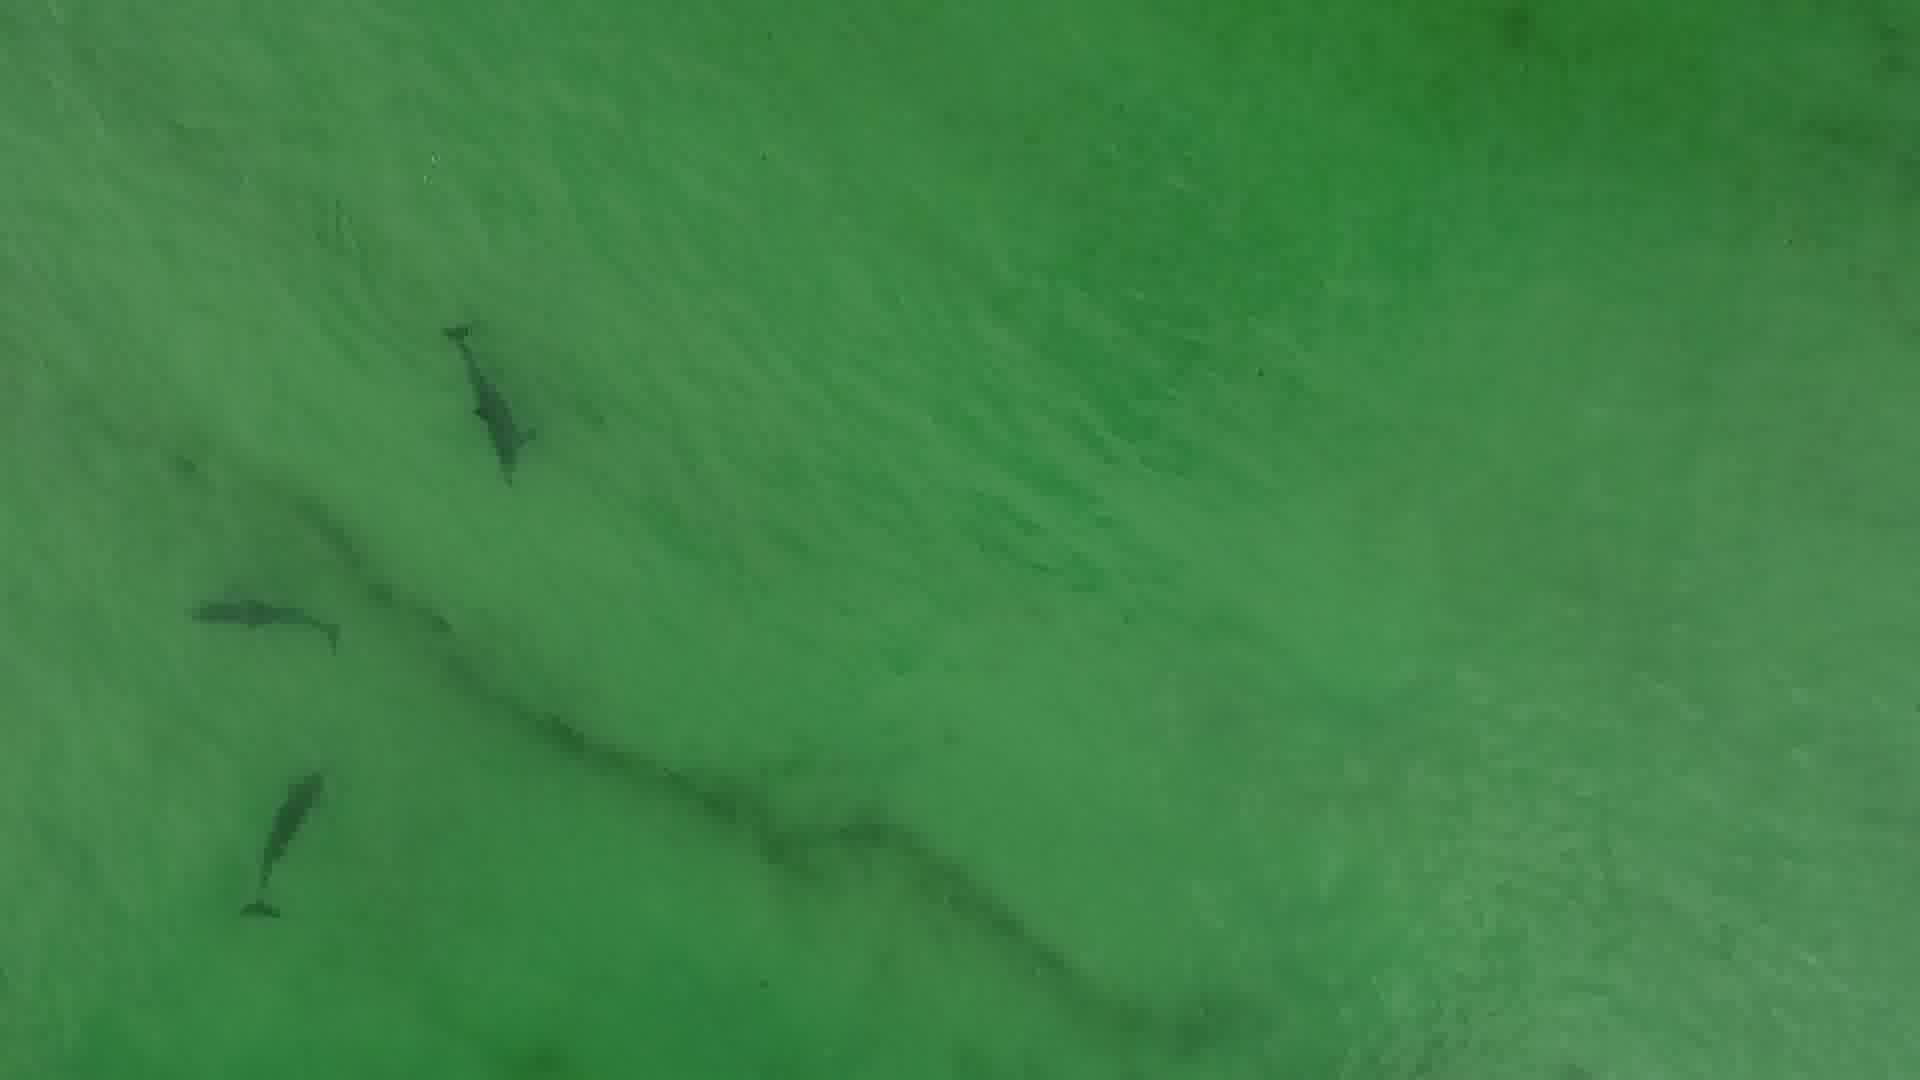dolphin: (207, 728, 336, 963), (414, 291, 547, 506), (161, 560, 352, 676)
